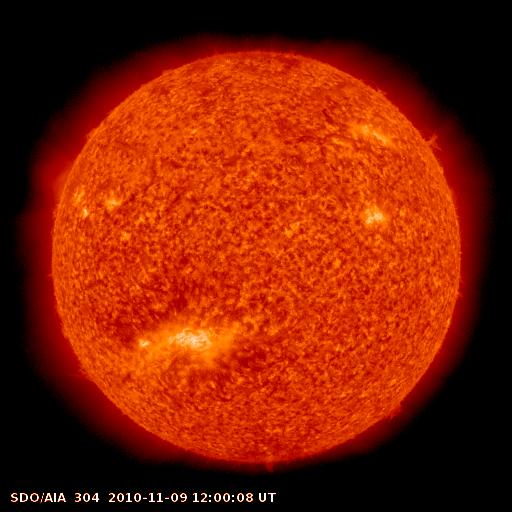prominence: (405, 113, 454, 167), (372, 393, 413, 436)
